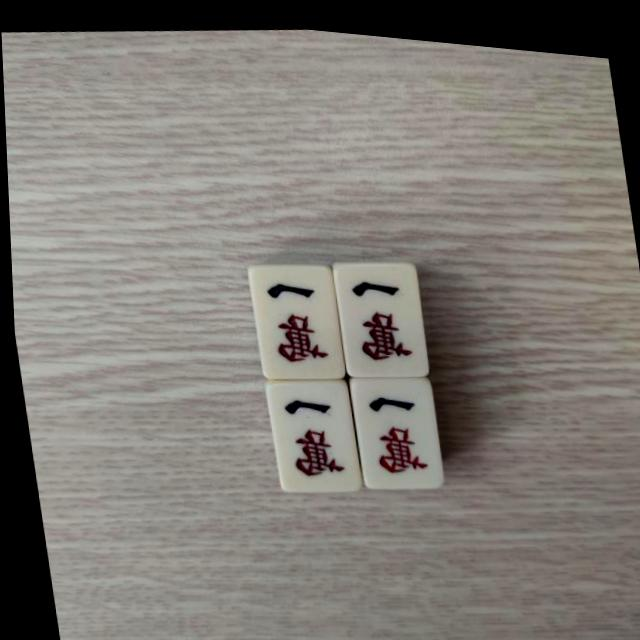sc1: (338, 255, 419, 365), (254, 261, 334, 367), (353, 375, 433, 476), (273, 378, 346, 482)
